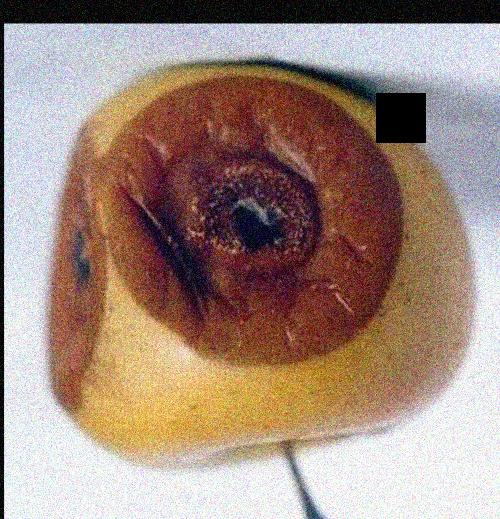rotten apple: (32, 62, 483, 469)
